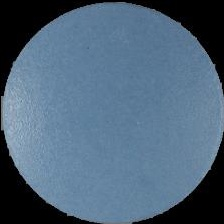0378-2675: (0, 0, 224, 224)
